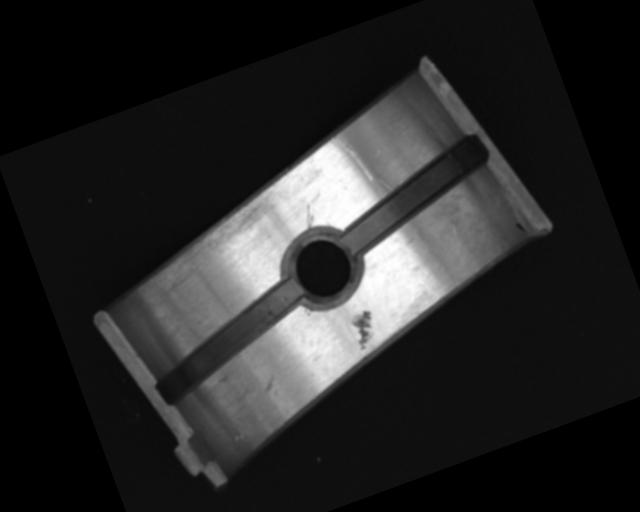blot: (514, 219, 528, 237)
bruise: (346, 307, 383, 351), (260, 374, 281, 399), (230, 431, 245, 445)
gap: (135, 273, 321, 406), (324, 131, 505, 260)
hole: (275, 219, 370, 315)
nick: (329, 128, 375, 191), (300, 203, 317, 229)
scratch: (115, 175, 293, 307)
